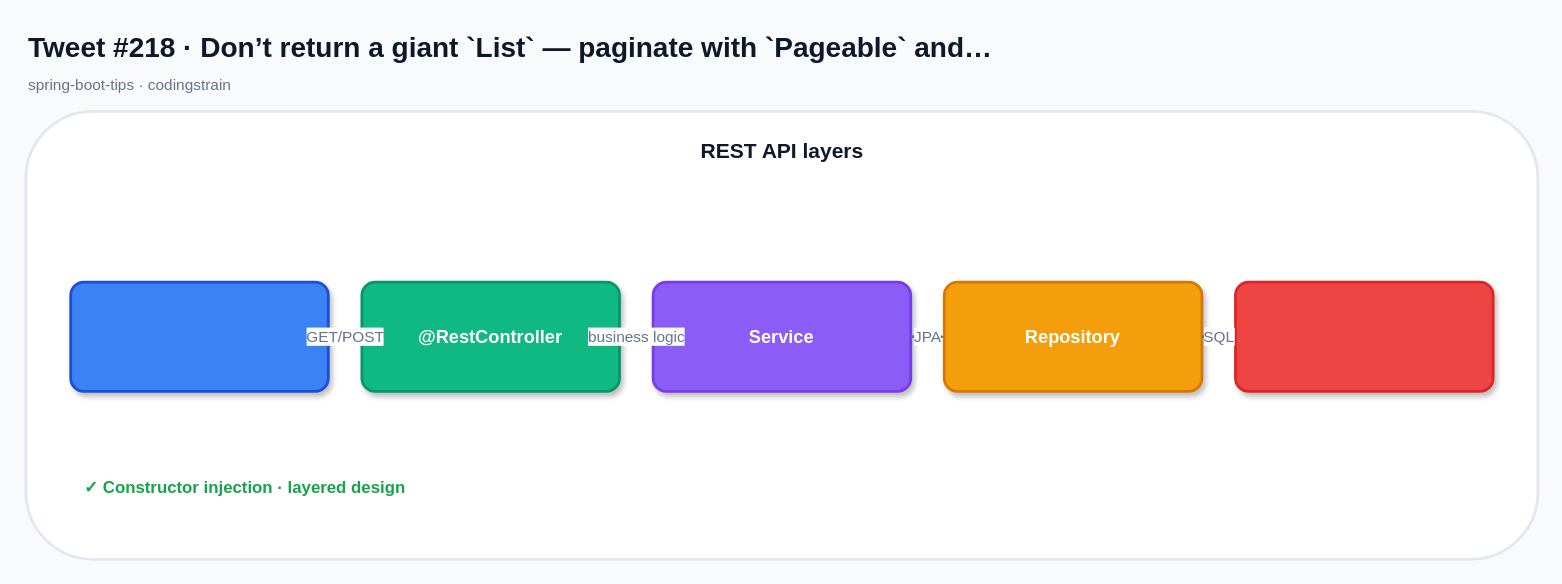
Image size: 1562x584. Some labels were removed from this diagram. Here are the shapes that lost their labels. From the top down, the centre of each, then its label:
(x=200, y=338): HTTP Client
(x=1365, y=338): H2 / DB
